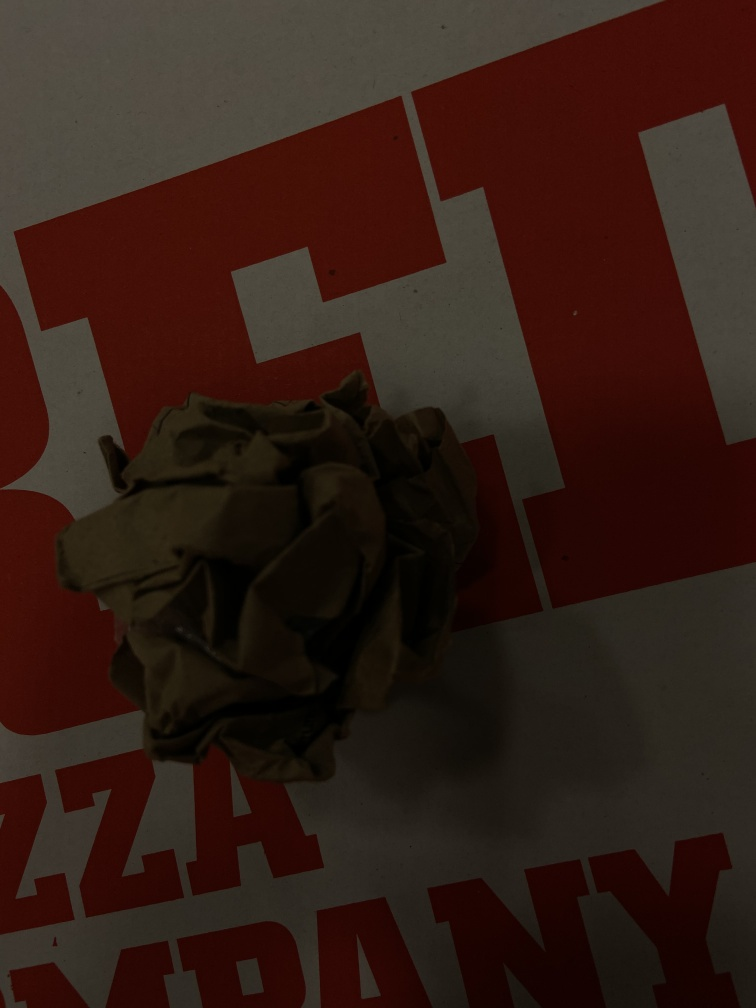paper_brown: (50, 364, 495, 787)
